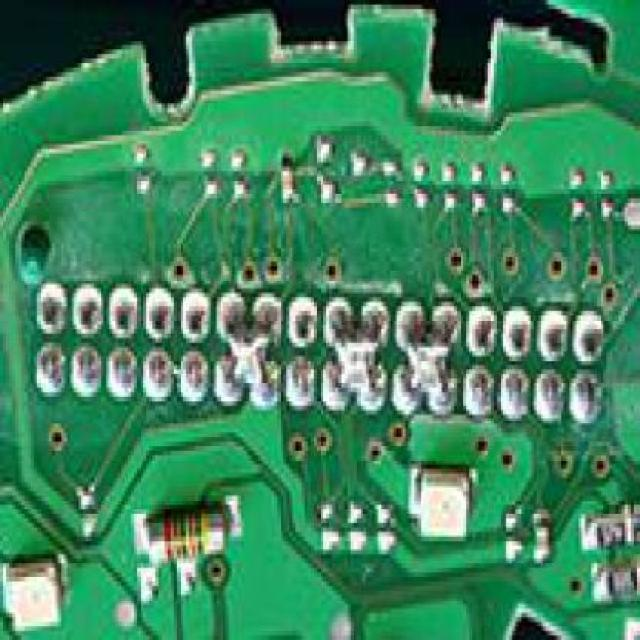Soldering shorted: (320, 306, 385, 411), (396, 310, 454, 416), (219, 310, 272, 406)
